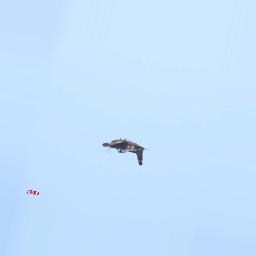Airplane: (101, 138, 146, 166)
